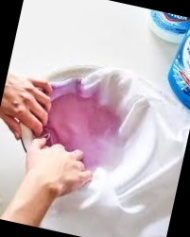wine: (36, 90, 124, 174)
